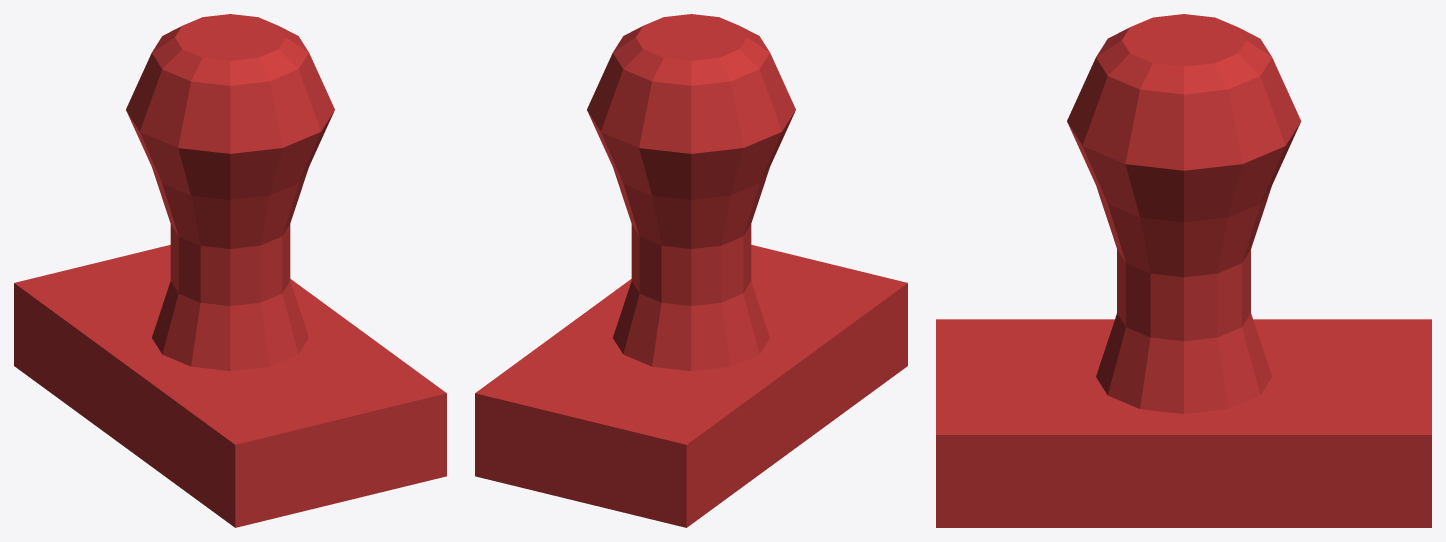
Rendered from RedStamp.fbx.
3 renders of one model, left to right at view 1: azimuth 30°, elevation 25°; view 2: azimuth 150°, elevation 25°; view 3: azimuth 270°, elevation 25°, orthographic. The views are drawn at different scales.
Visible parts, largest first — view 1: stamp2; view 2: stamp2; view 3: stamp2.
Boxes of the visible parts, x1,y1,x2,y2 form: stamp2: [14, 14, 446, 527]; stamp2: [475, 14, 907, 527]; stamp2: [936, 14, 1431, 527].
Size of the model in its own units: 155 by 269 by 281.
